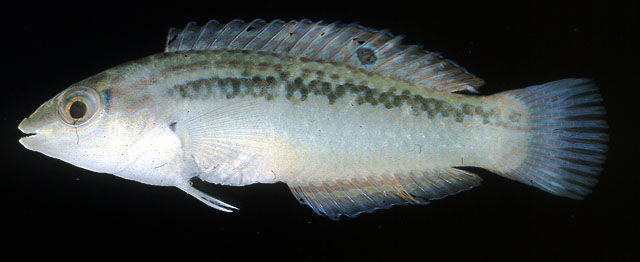fish: (16, 18, 609, 220)
